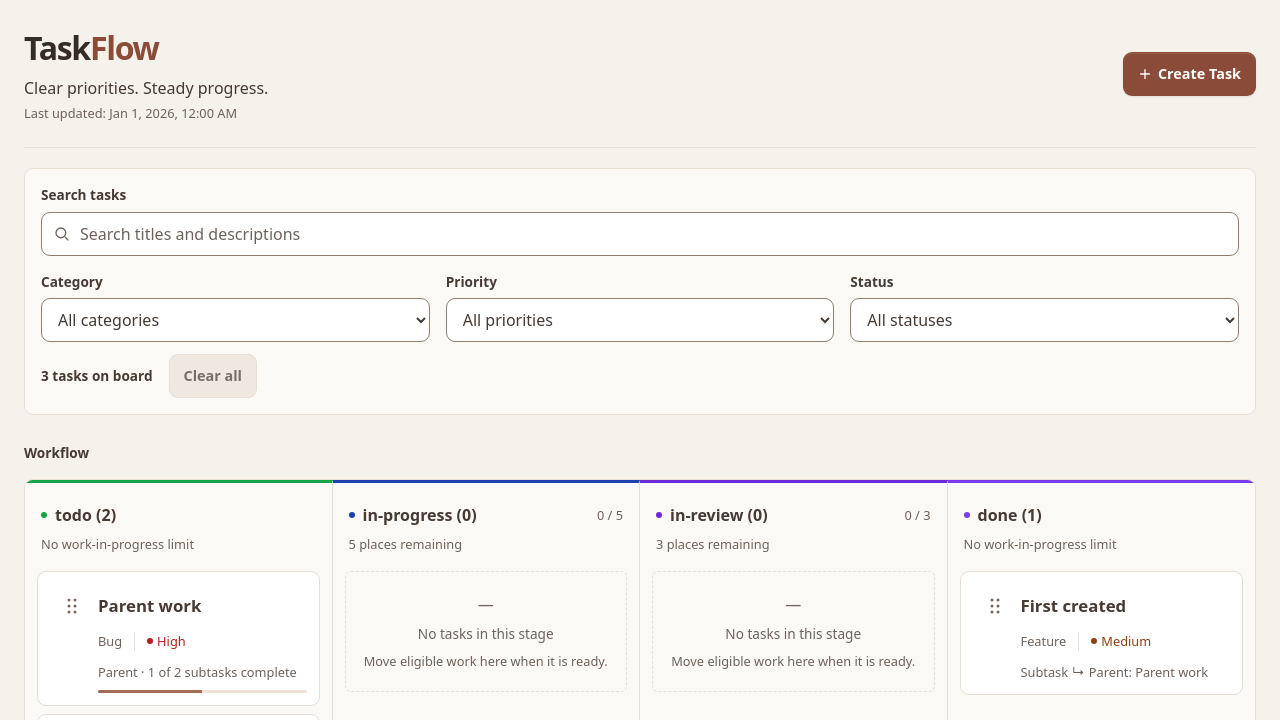
linked task board interactions › lists subtasks oldest first across workflow columns and keeps that order after a move
Step 1. Click the button with aria-label "Open task Parent work" → point(202, 606), box [98,584,306,628]
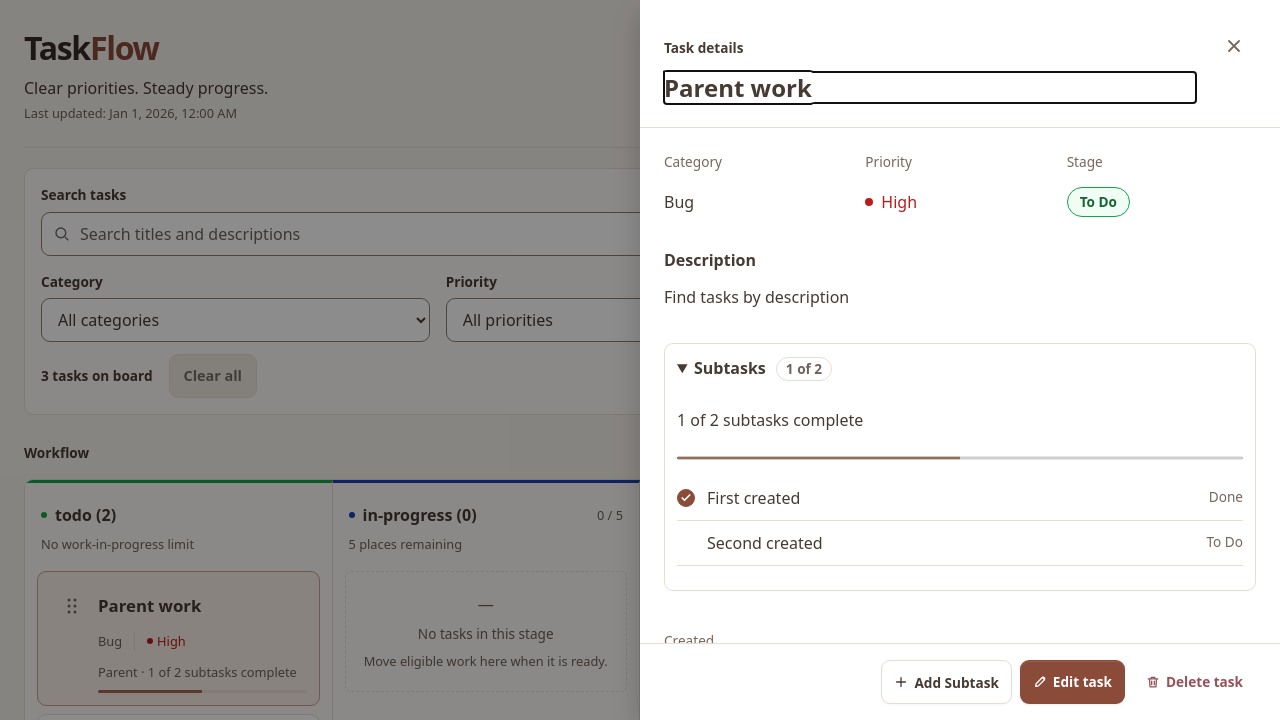
Step 2. Click the button "Edit task" → point(1072, 682), box [1020,660,1125,704]
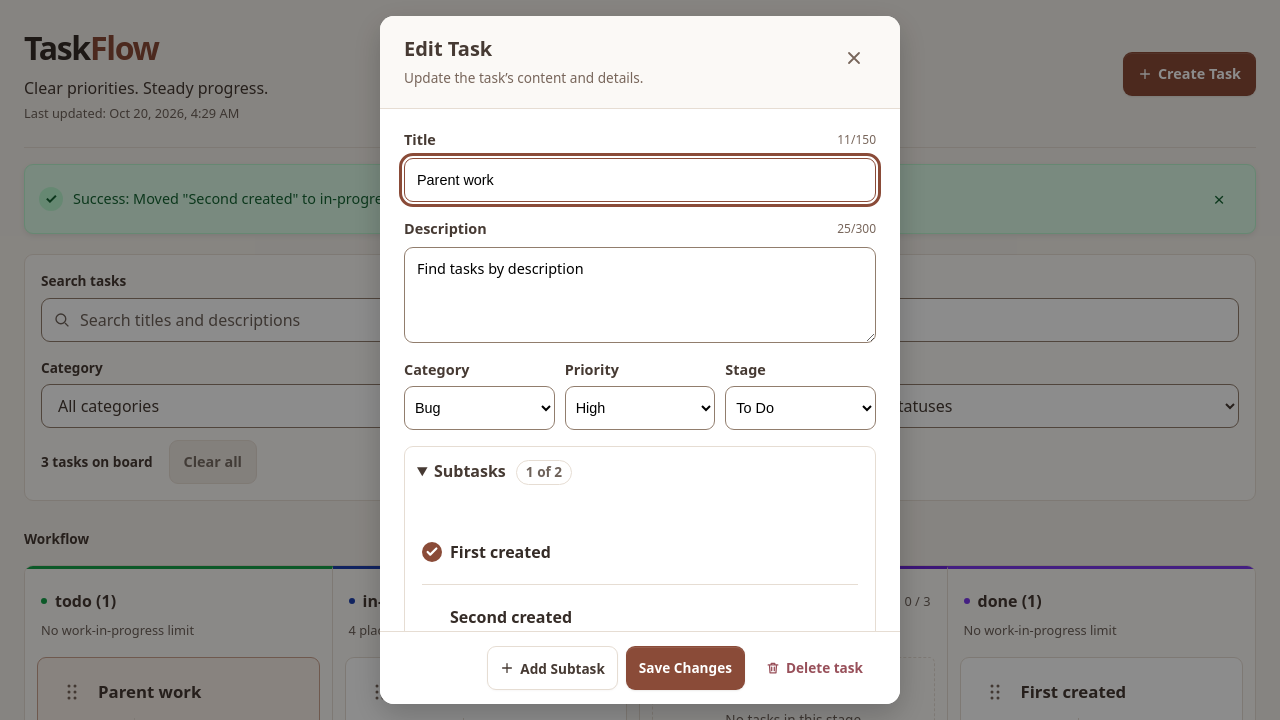
Now the list items read "First created", "Second created", in this order, box [422,520,858,585]; [422,585,858,631]
Step 3. Click the button with aria-label "Open subtask Second created" → point(511, 617), box [450,595,858,639]
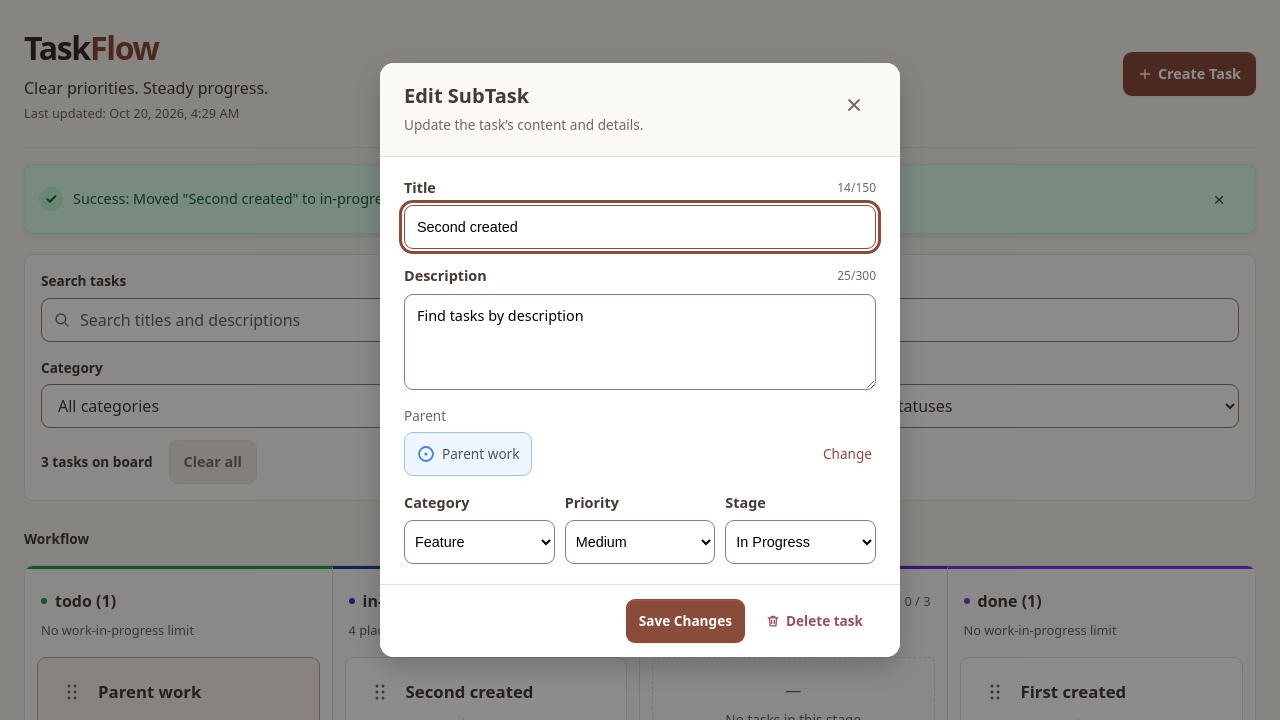
Now the dropdown labelled "Stage" shows "In Progress", box [725,520,876,564]
